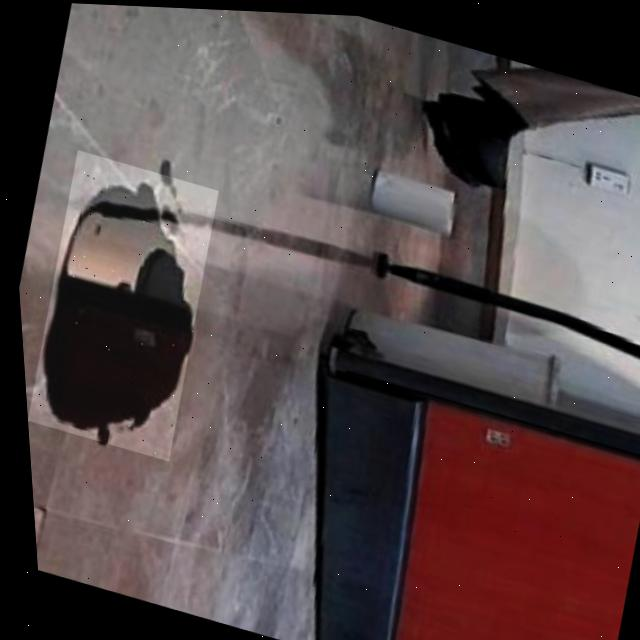spillage: (34, 173, 190, 439)
